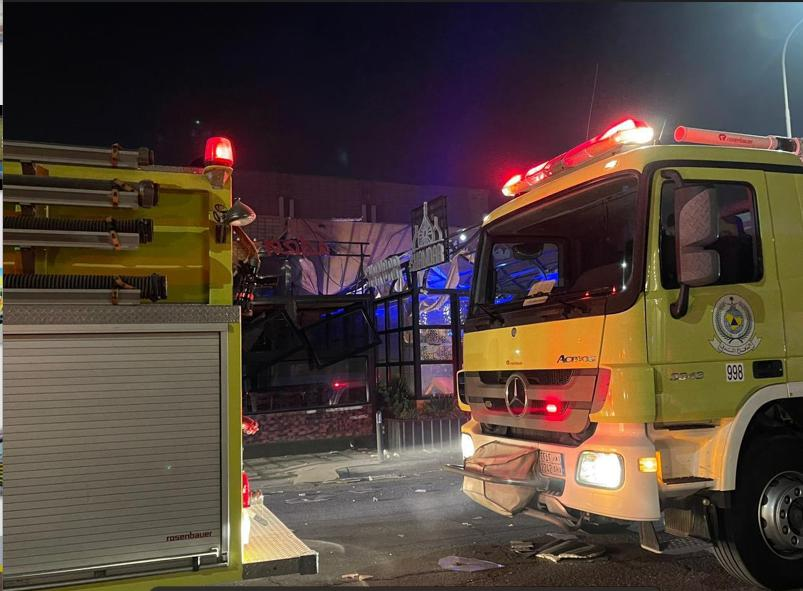firetruck_on: (450, 112, 803, 591), (0, 116, 318, 591)
